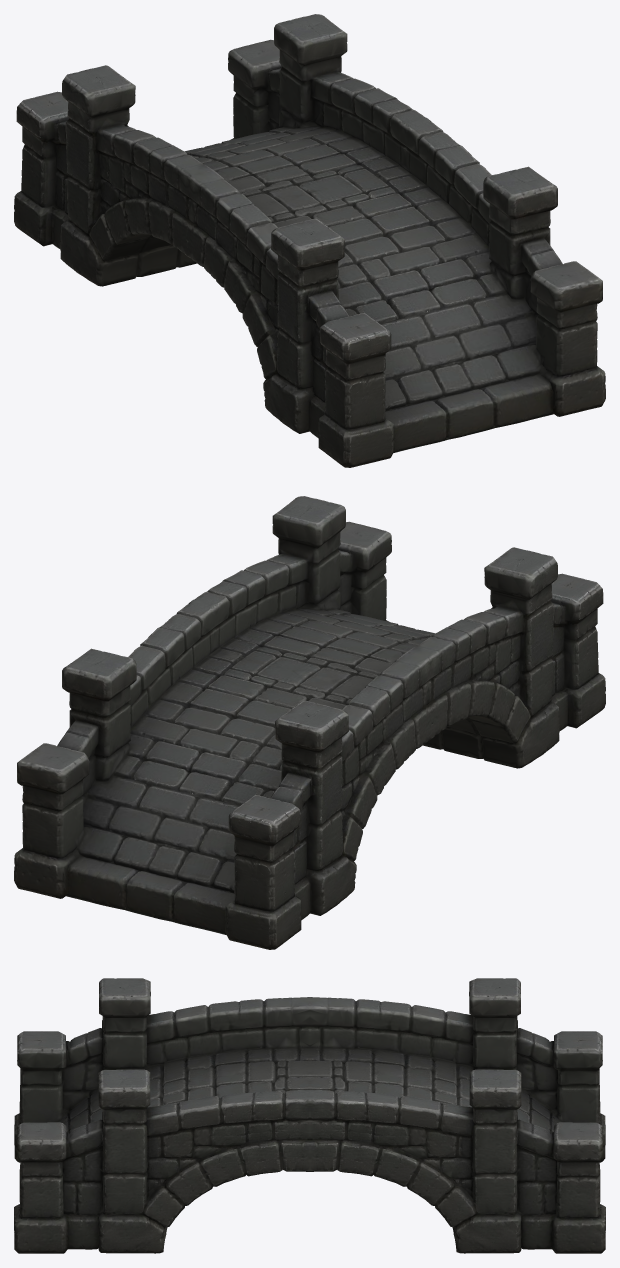
The model's file is Bridge.fbx.
3 renders of one model, top to bottom at view 1: azimuth 30°, elevation 25°; view 2: azimuth 150°, elevation 25°; view 3: azimuth 270°, elevation 25°, orthographic. The views are drawn at different scales.
Parts seen in each view (by area): view 1: Bridge; view 2: Bridge; view 3: Bridge.
Boxes of the visible parts, <box> form: Bridge: <box>14,14,605,467</box>; Bridge: <box>14,496,605,949</box>; Bridge: <box>14,978,605,1253</box>.
Bounding box in the file's own units: 400 × 272 × 882.
1 material, 1 textured.
